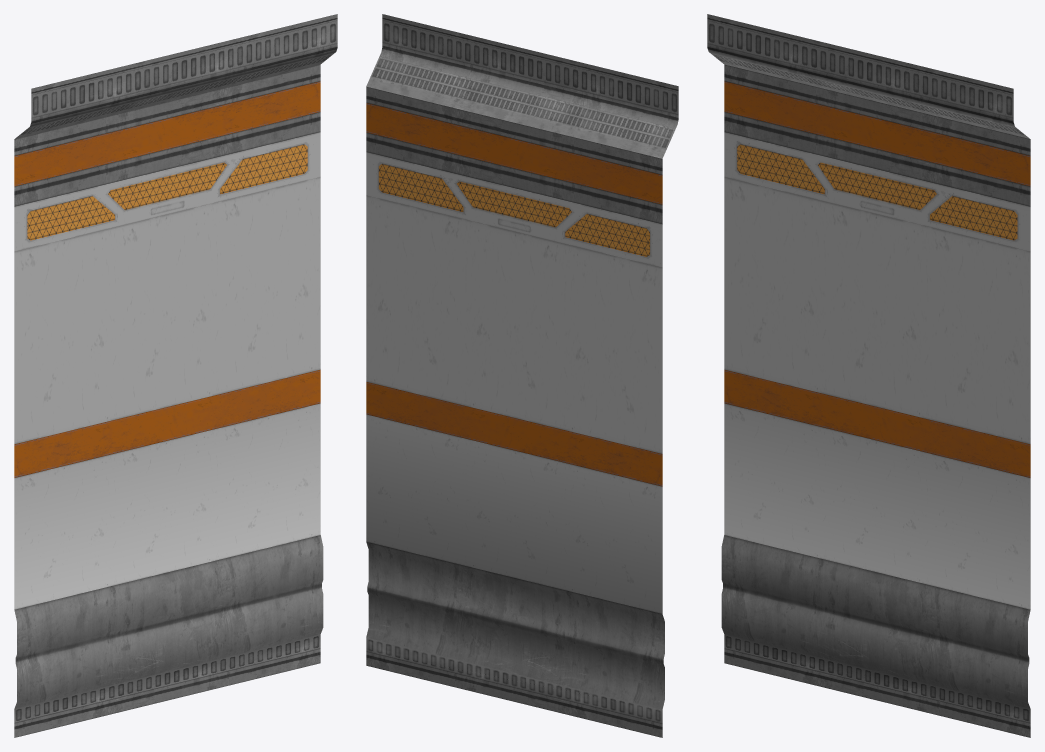
Rendered from Wall.fbx.
The picture shows the model from 3 angles, left to right: view 1: azimuth 30°, elevation 25°; view 2: azimuth 150°, elevation 25°; view 3: azimuth 330°, elevation 25°; orthographic projection. The views are drawn at different scales.
Visible parts, largest first — view 1: Plane.003; view 2: Plane.003; view 3: Plane.003.
Boxes of the visible parts, x1=… form: Plane.003: x1=14, y1=14, x2=337, y2=737; Plane.003: x1=366, y1=14, x2=678, y2=737; Plane.003: x1=707, y1=14, x2=1030, y2=737.
Bounding box in the file's own units: 4.25 × 8.76 × 0.4041.
